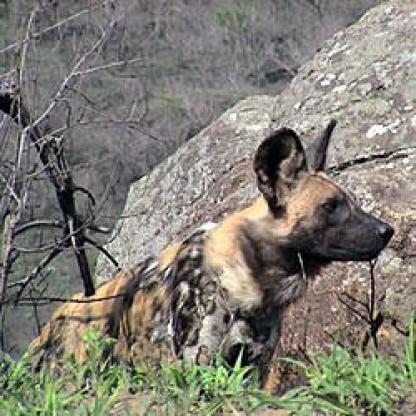African_hunting_dog: (30, 118, 396, 398)
